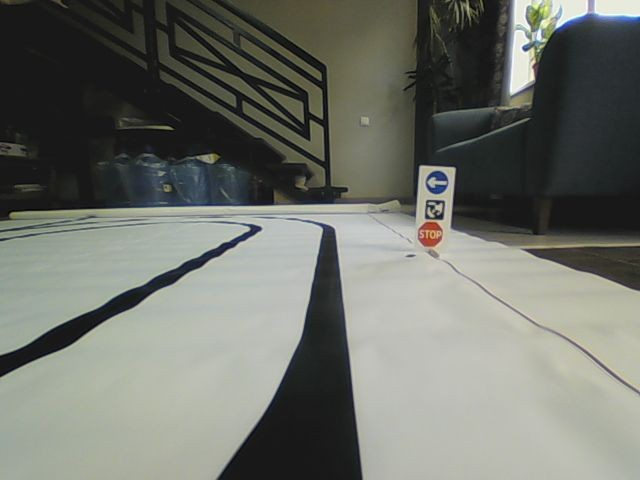Stop: (416, 220, 444, 247)
